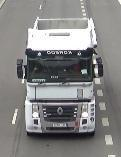Truck: (17, 18, 103, 136)
